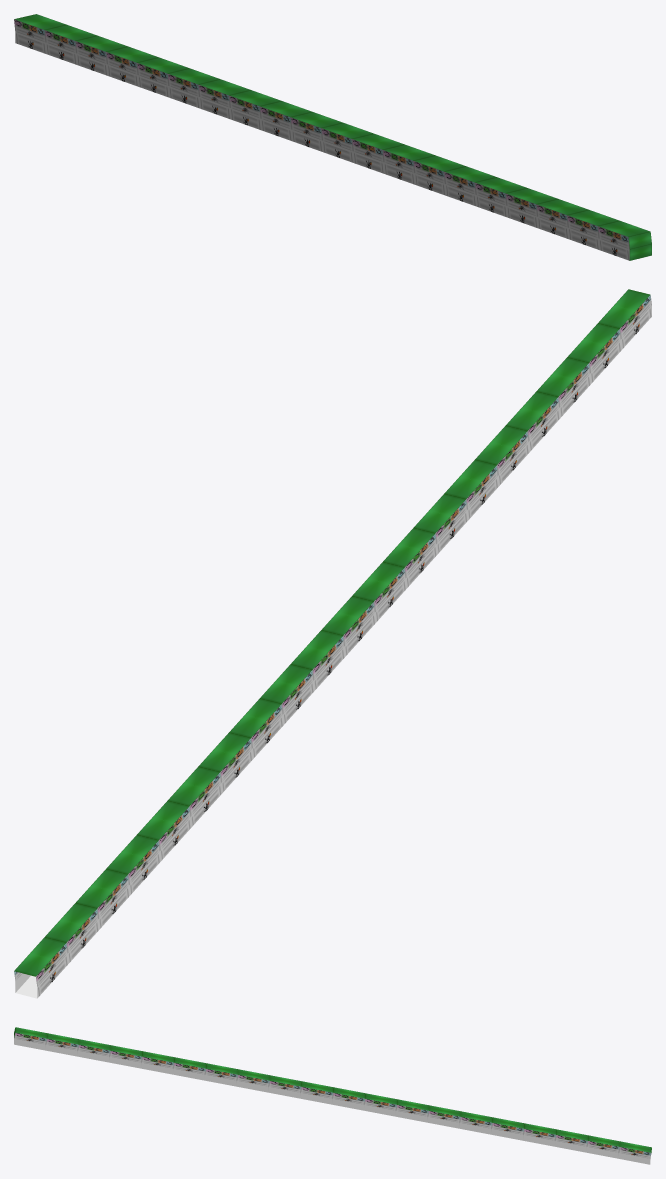
The model's file is CourseAki_Wall_R_1.fbx.
3 renders of one model, top to bottom at view 1: azimuth 30°, elevation 25°; view 2: azimuth 150°, elevation 25°; view 3: azimuth 270°, elevation 25°, orthographic. The views are drawn at different scales.
Parts seen in each view (by area): view 1: polySurface290; view 2: polySurface290; view 3: polySurface290.
Boxes of the visible parts, x1,y1,x2,y2 form: polySurface290: (14,14,651,260); polySurface290: (14,289,651,998); polySurface290: (14,1027,651,1164).
Size of the model in its own units: 2.01 by 21.98 by 96.21.
Materials: 1 (1 with a texture image).
